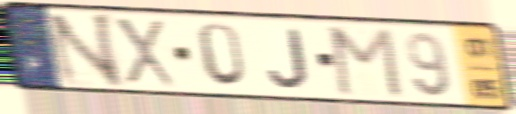0: (195, 21, 248, 90)
9: (404, 29, 452, 100)
J: (266, 26, 312, 91)
M: (327, 25, 406, 101)
N: (43, 11, 127, 89)
X: (110, 14, 179, 89)
